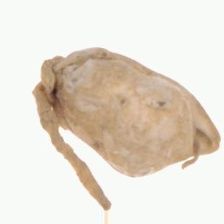L1: (32, 57, 73, 142)
L2: (33, 47, 221, 177)
